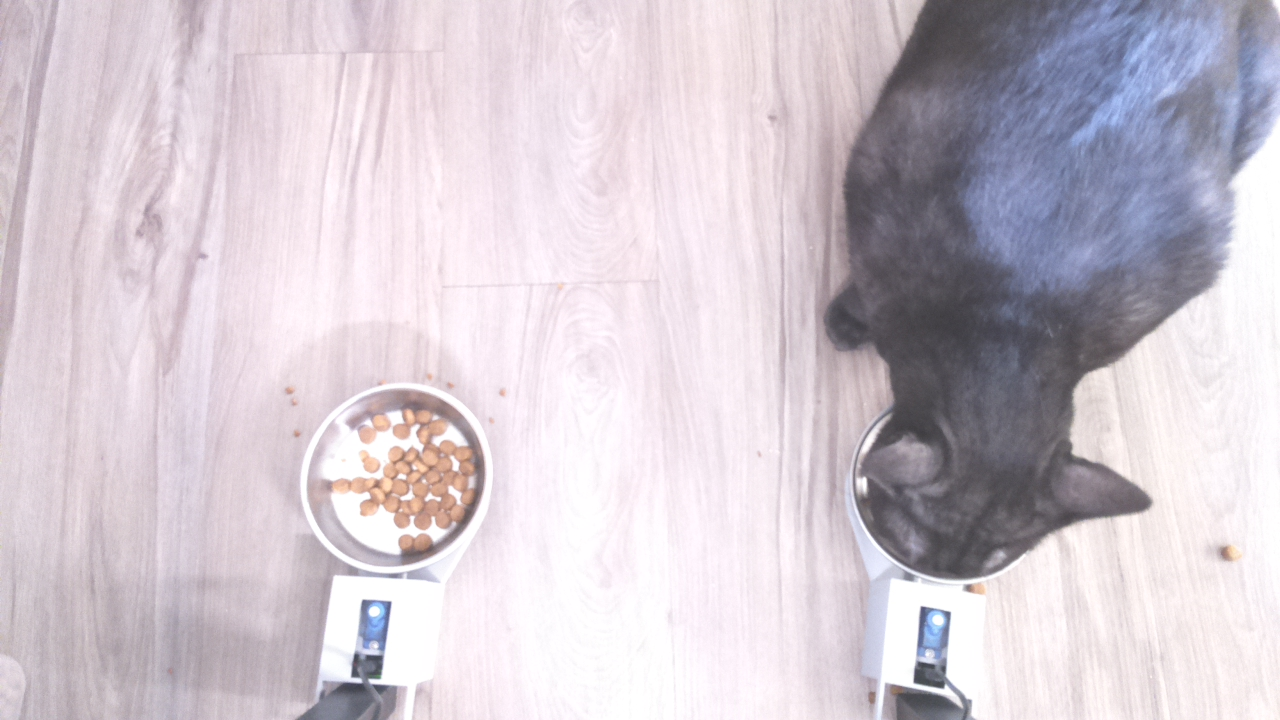open_bowl: (295, 377, 509, 586)
saki_eating: (820, 380, 1157, 577)
